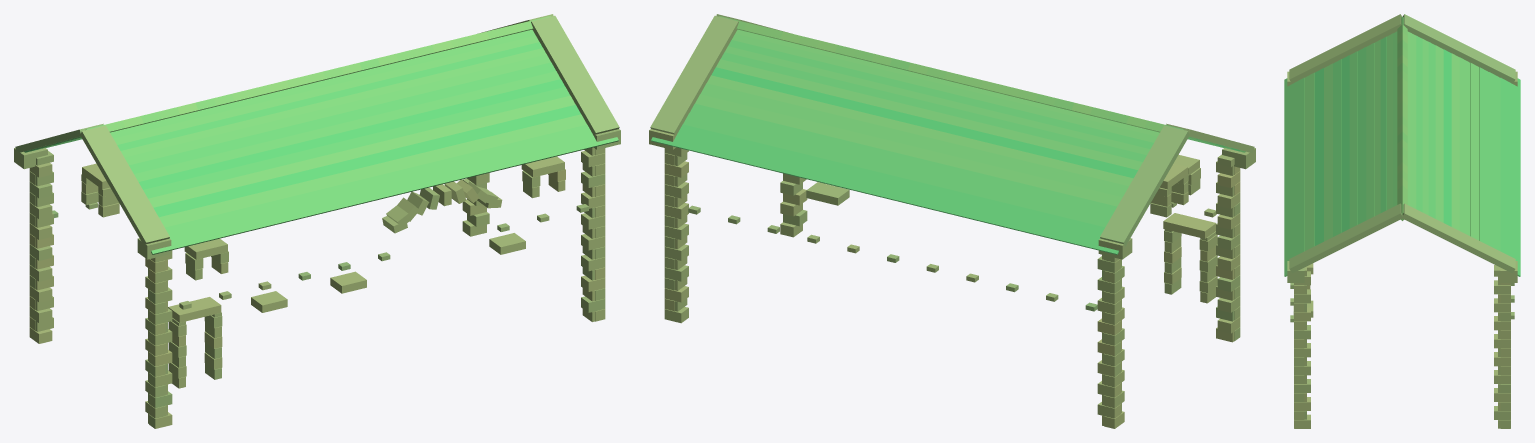
The model's file is SM_Bld_010_Stone.glb.
3 views of the same model, side by side, from view 1: azimuth 30°, elevation 25°; view 2: azimuth 150°, elevation 25°; view 3: azimuth 270°, elevation 25° (orthographic). The views are drawn at different scales.
Parts seen in each view (by area): view 1: SM_Bld_010_Stone; view 2: SM_Bld_010_Stone; view 3: SM_Bld_010_Stone.
Boxes of the visible parts, bbox=[...] form: SM_Bld_010_Stone: bbox=[14, 14, 620, 428]; SM_Bld_010_Stone: bbox=[649, 14, 1255, 428]; SM_Bld_010_Stone: bbox=[1284, 14, 1520, 428].
Bounding box in the file's own units: 14.3 × 7.37 × 7.17.
